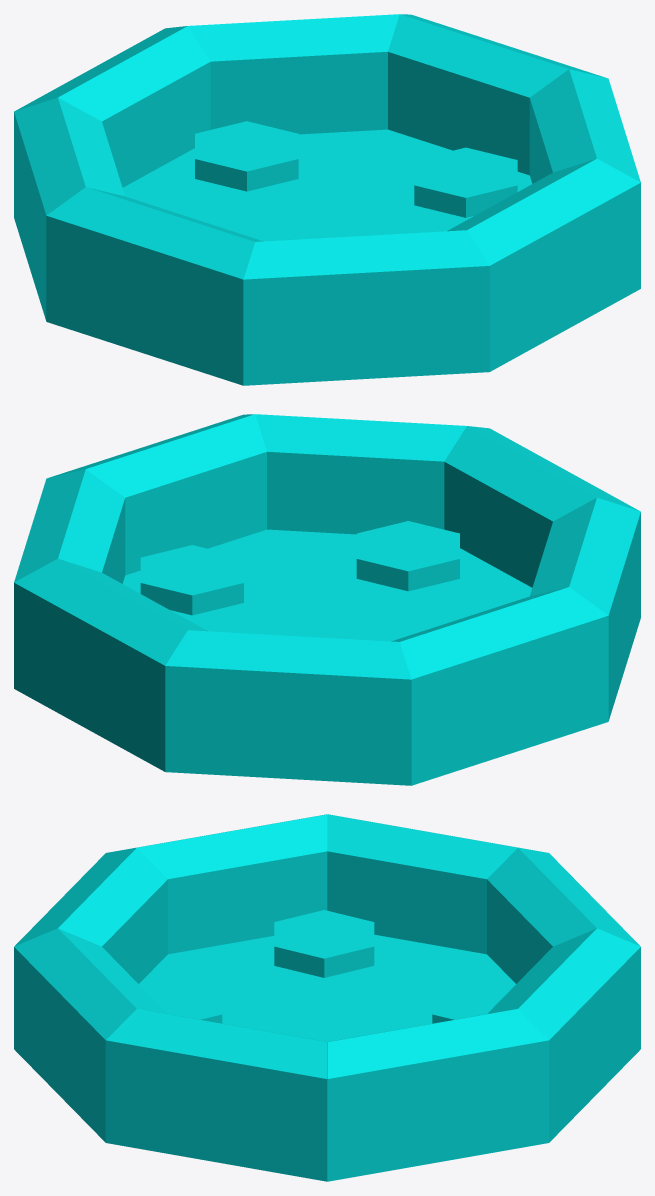
Rendered from SM_Prop_Inflatable_07_Collision.fbx.
3 renders of one model, top to bottom at view 1: azimuth 30°, elevation 25°; view 2: azimuth 150°, elevation 25°; view 3: azimuth 270°, elevation 25°, orthographic. The views are drawn at different scales.
Parts seen in each view (by area): view 1: SM_Prop_Inflatable_07_Collision; view 2: SM_Prop_Inflatable_07_Collision; view 3: SM_Prop_Inflatable_07_Collision.
Part boxes in pixels (x1,y1,x2,y2): SM_Prop_Inflatable_07_Collision: [14, 14, 640, 385]; SM_Prop_Inflatable_07_Collision: [14, 414, 640, 785]; SM_Prop_Inflatable_07_Collision: [14, 814, 640, 1181].
Size of the model in its own units: 619 by 132 by 619.
